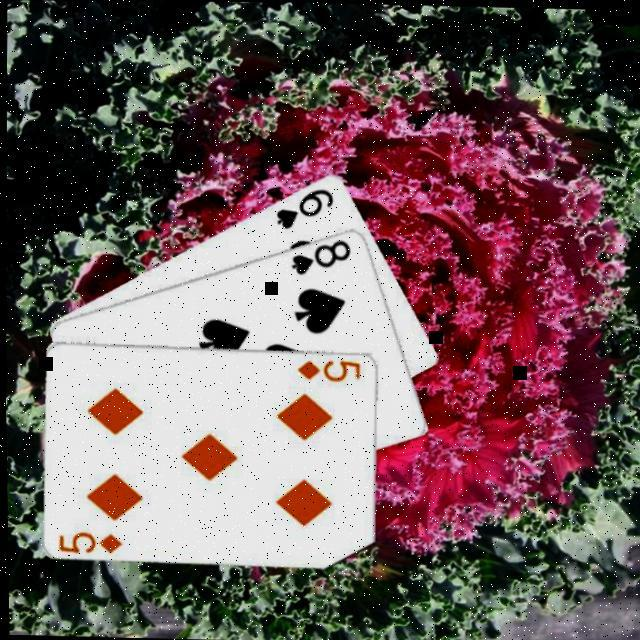5D: (295, 354, 363, 383), (55, 527, 124, 554)
6S: (272, 182, 338, 230)
8S: (286, 234, 354, 276)
